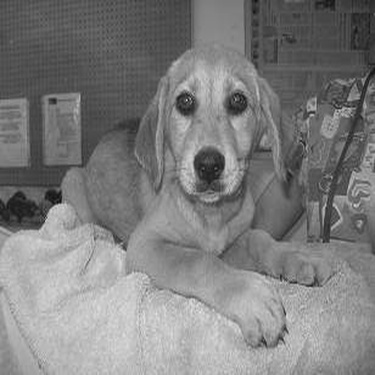dog: (47, 35, 335, 351)
